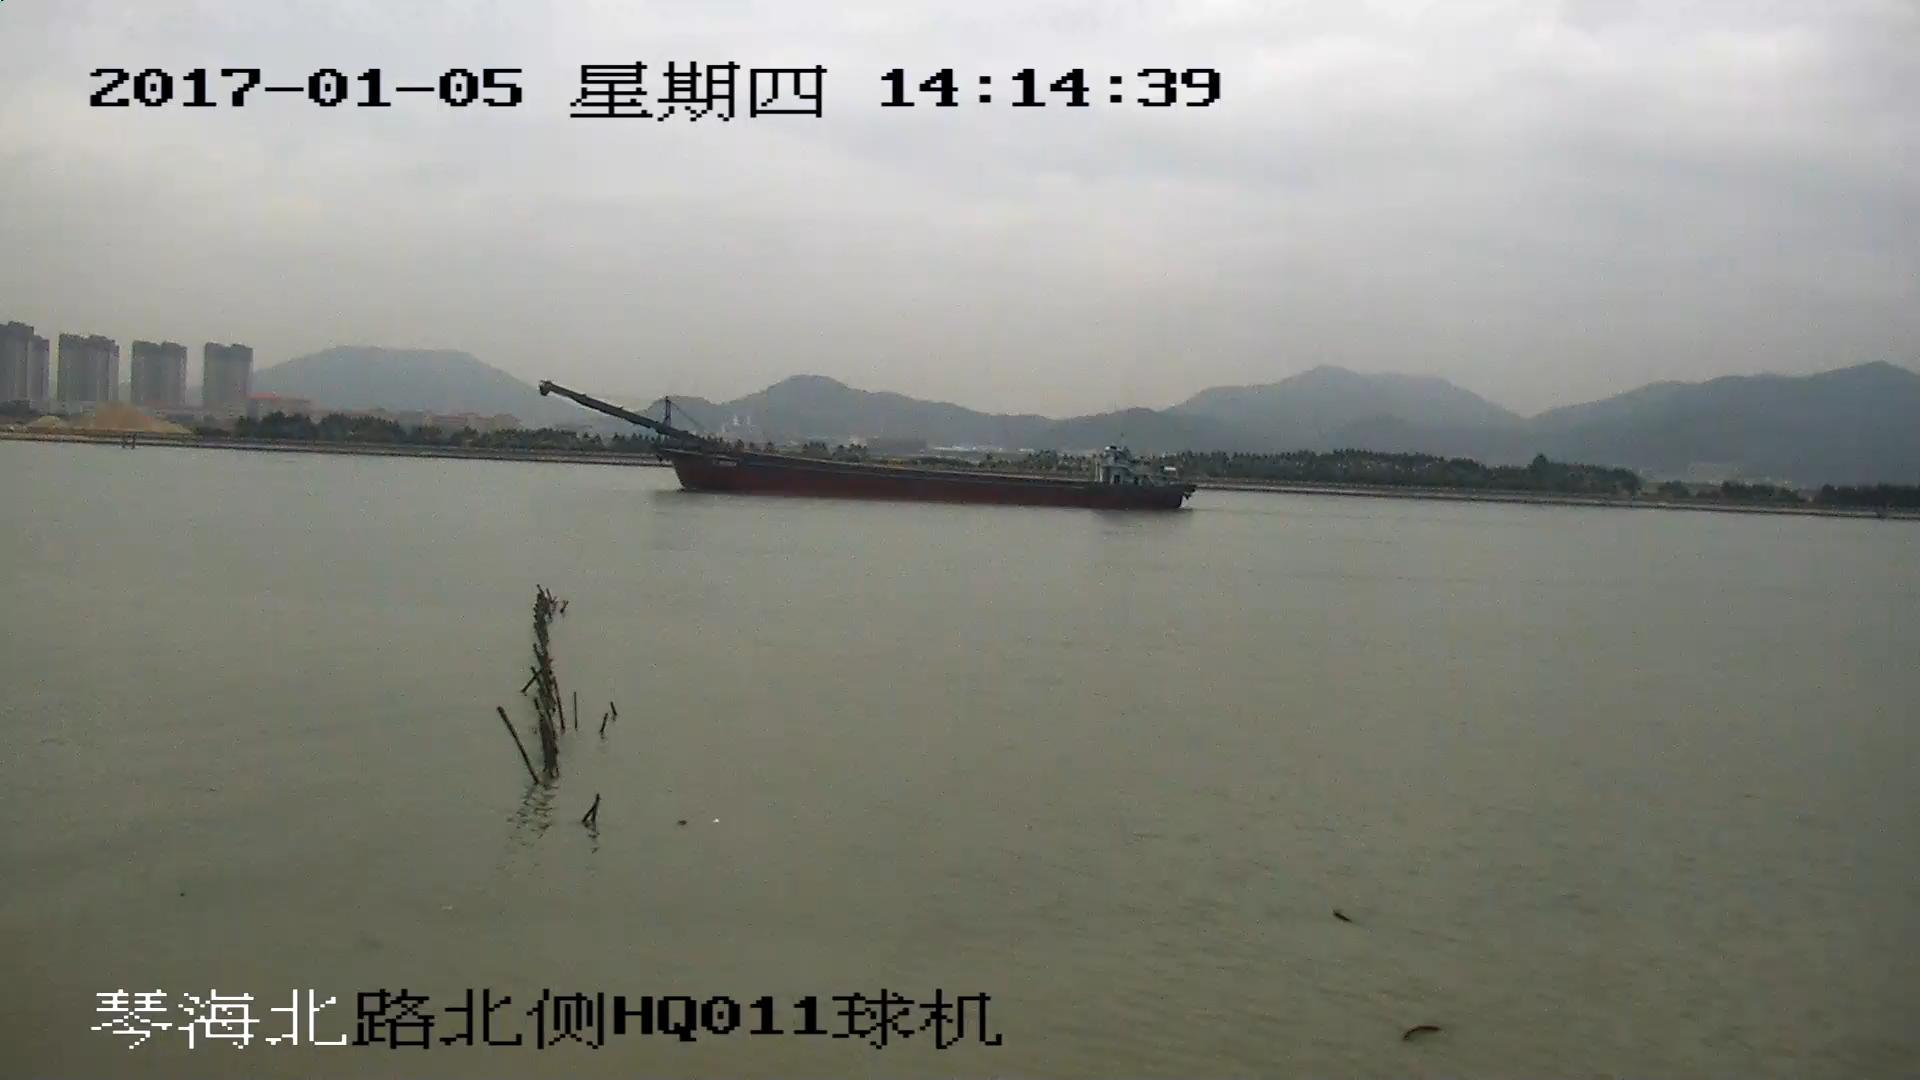Ship: (541, 386, 1197, 508)
